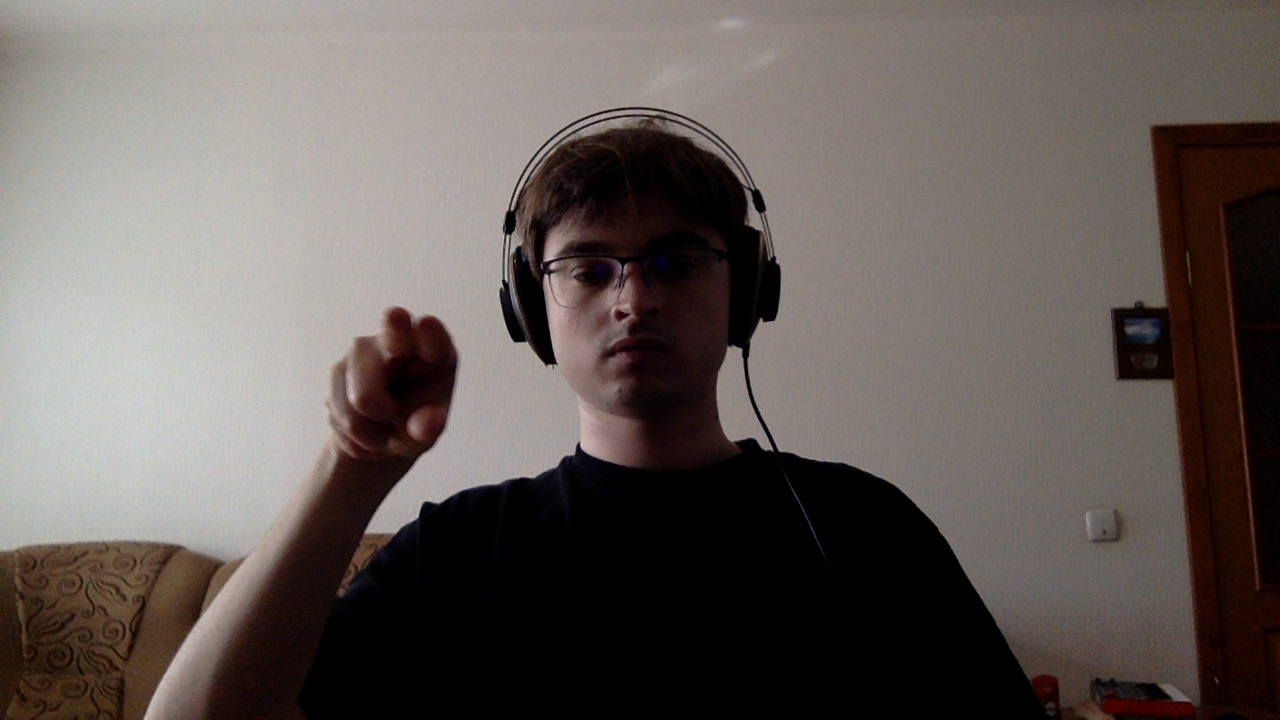no: (300, 296, 508, 486)
